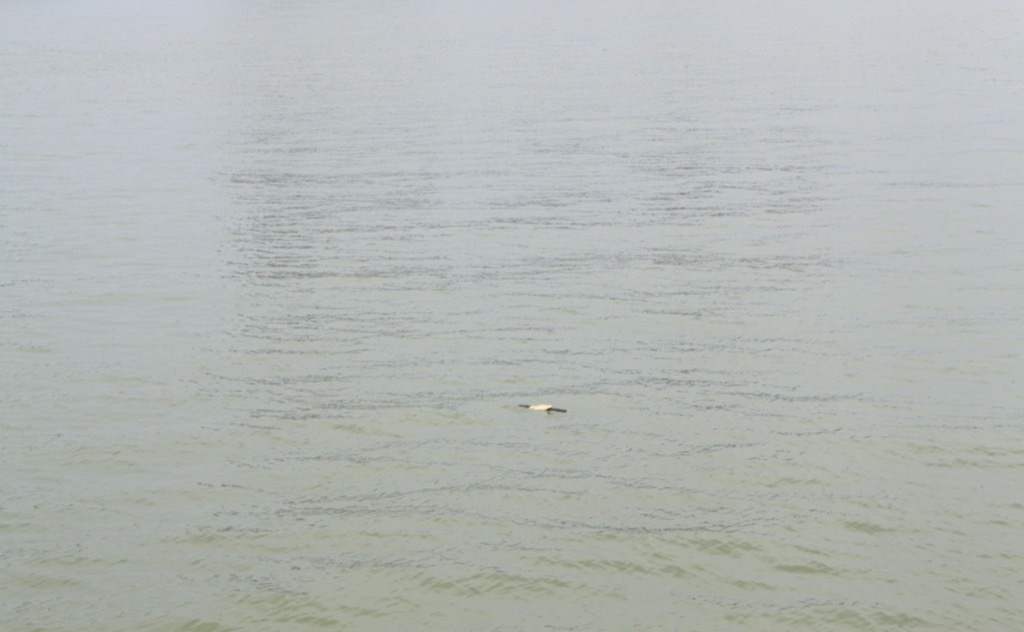plastic: (505, 392, 581, 428)
